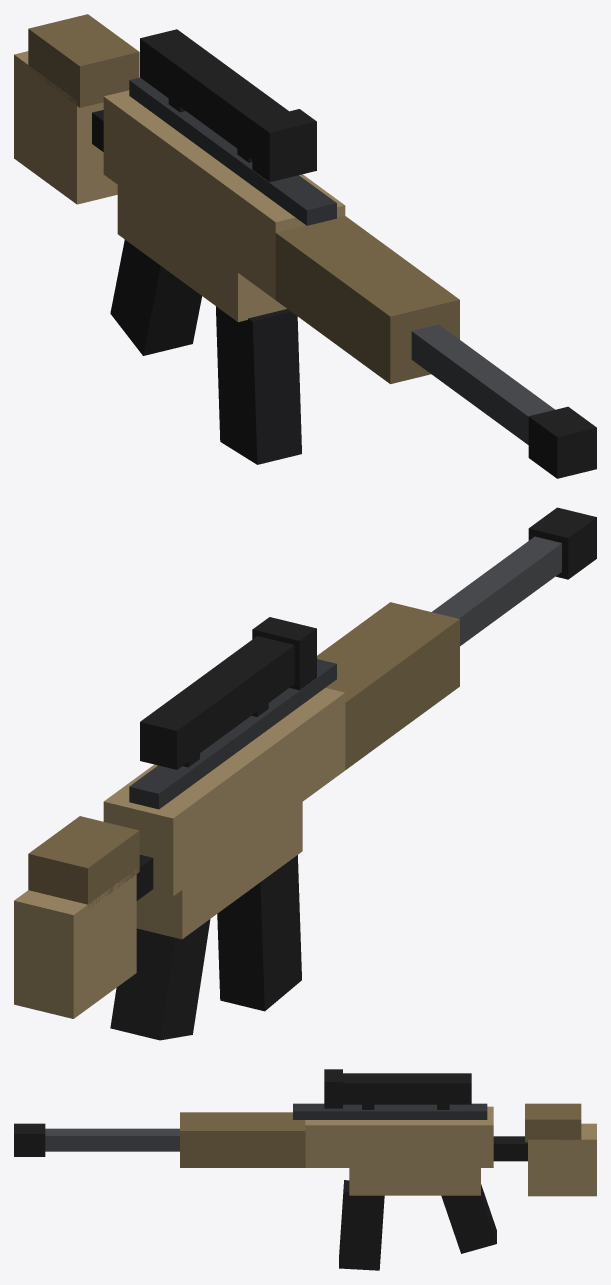
Rendered from gun-scar20.glb.
3 views of the same model, one above another, from view 1: azimuth 30°, elevation 25°; view 2: azimuth 150°, elevation 25°; view 3: azimuth 270°, elevation 25° (orthographic). The views are drawn at different scales.
Parts seen in each view (by area): view 1: scar20; view 2: scar20; view 3: scar20.
Boxes of the visible parts, <box> form: scar20: <box>14,14,596,478</box>; scar20: <box>14,507,596,1040</box>; scar20: <box>14,1069,596,1270</box>.
Size of the model in its own units: 0.14 by 0.6662 by 1.86.
